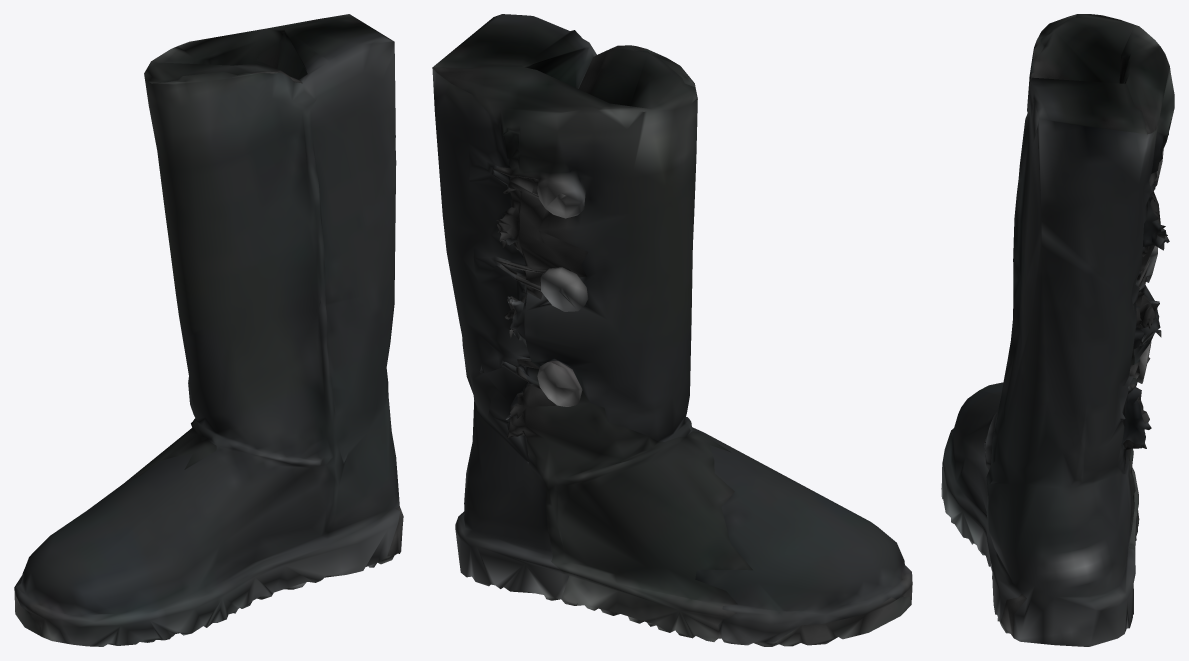
Rendered from UGG_Bailey_Button_Triplet_Womens_Boots_Black_7-medium.glb.
3 views of the same model, side by side, from view 1: azimuth 30°, elevation 25°; view 2: azimuth 150°, elevation 25°; view 3: azimuth 270°, elevation 25° (orthographic). The views are drawn at different scales.
Parts seen in each view (by area): view 1: UGG_Bailey_Button_Triplet_Womens_Boots_Black_7; view 2: UGG_Bailey_Button_Triplet_Womens_Boots_Black_7; view 3: UGG_Bailey_Button_Triplet_Womens_Boots_Black_7.
Boxes of the visible parts, <box> form: UGG_Bailey_Button_Triplet_Womens_Boots_Black_7: <box>14,14,403,646</box>; UGG_Bailey_Button_Triplet_Womens_Boots_Black_7: <box>432,14,912,646</box>; UGG_Bailey_Button_Triplet_Womens_Boots_Black_7: <box>941,14,1174,646</box>.
Bounding box in the file's own units: 0.2678 × 0.3356 × 0.133.
1 material, 1 textured.
